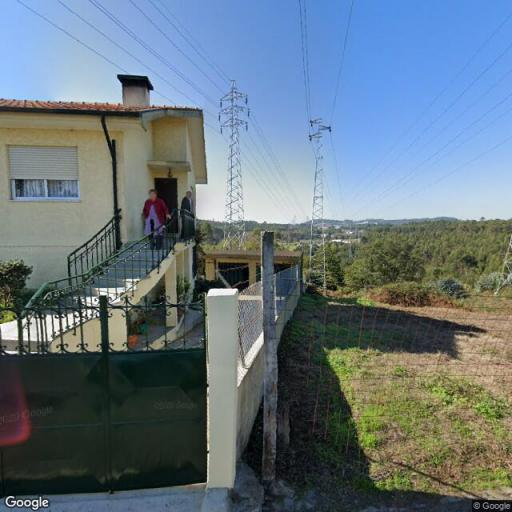ss_3: (220, 78, 250, 250)
ss_4: (306, 116, 333, 296)
